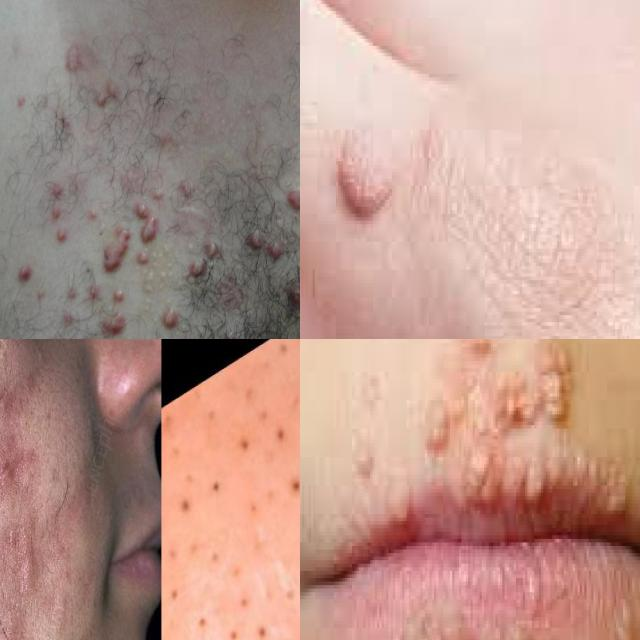comedone: (162, 429, 210, 571), (209, 566, 282, 640), (162, 529, 202, 615), (192, 448, 238, 517), (224, 601, 300, 640), (260, 400, 300, 463), (222, 415, 264, 470), (276, 460, 300, 511), (289, 515, 300, 565)
flat_wart: (326, 339, 640, 528), (333, 59, 418, 318)
keloid: (183, 229, 228, 284), (99, 222, 135, 280), (128, 188, 162, 247), (47, 180, 71, 246), (245, 226, 286, 262), (281, 271, 300, 339), (97, 309, 132, 339), (13, 256, 39, 291), (284, 180, 300, 216), (162, 305, 183, 332)
